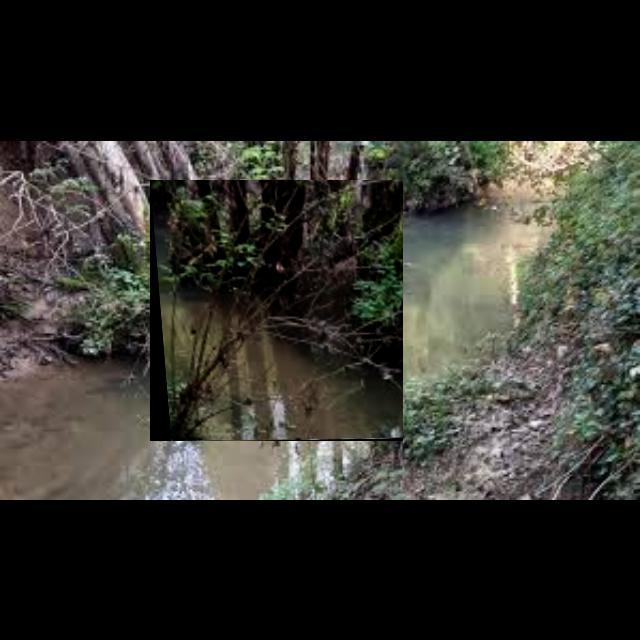fallen_tree: (150, 180, 404, 442)
